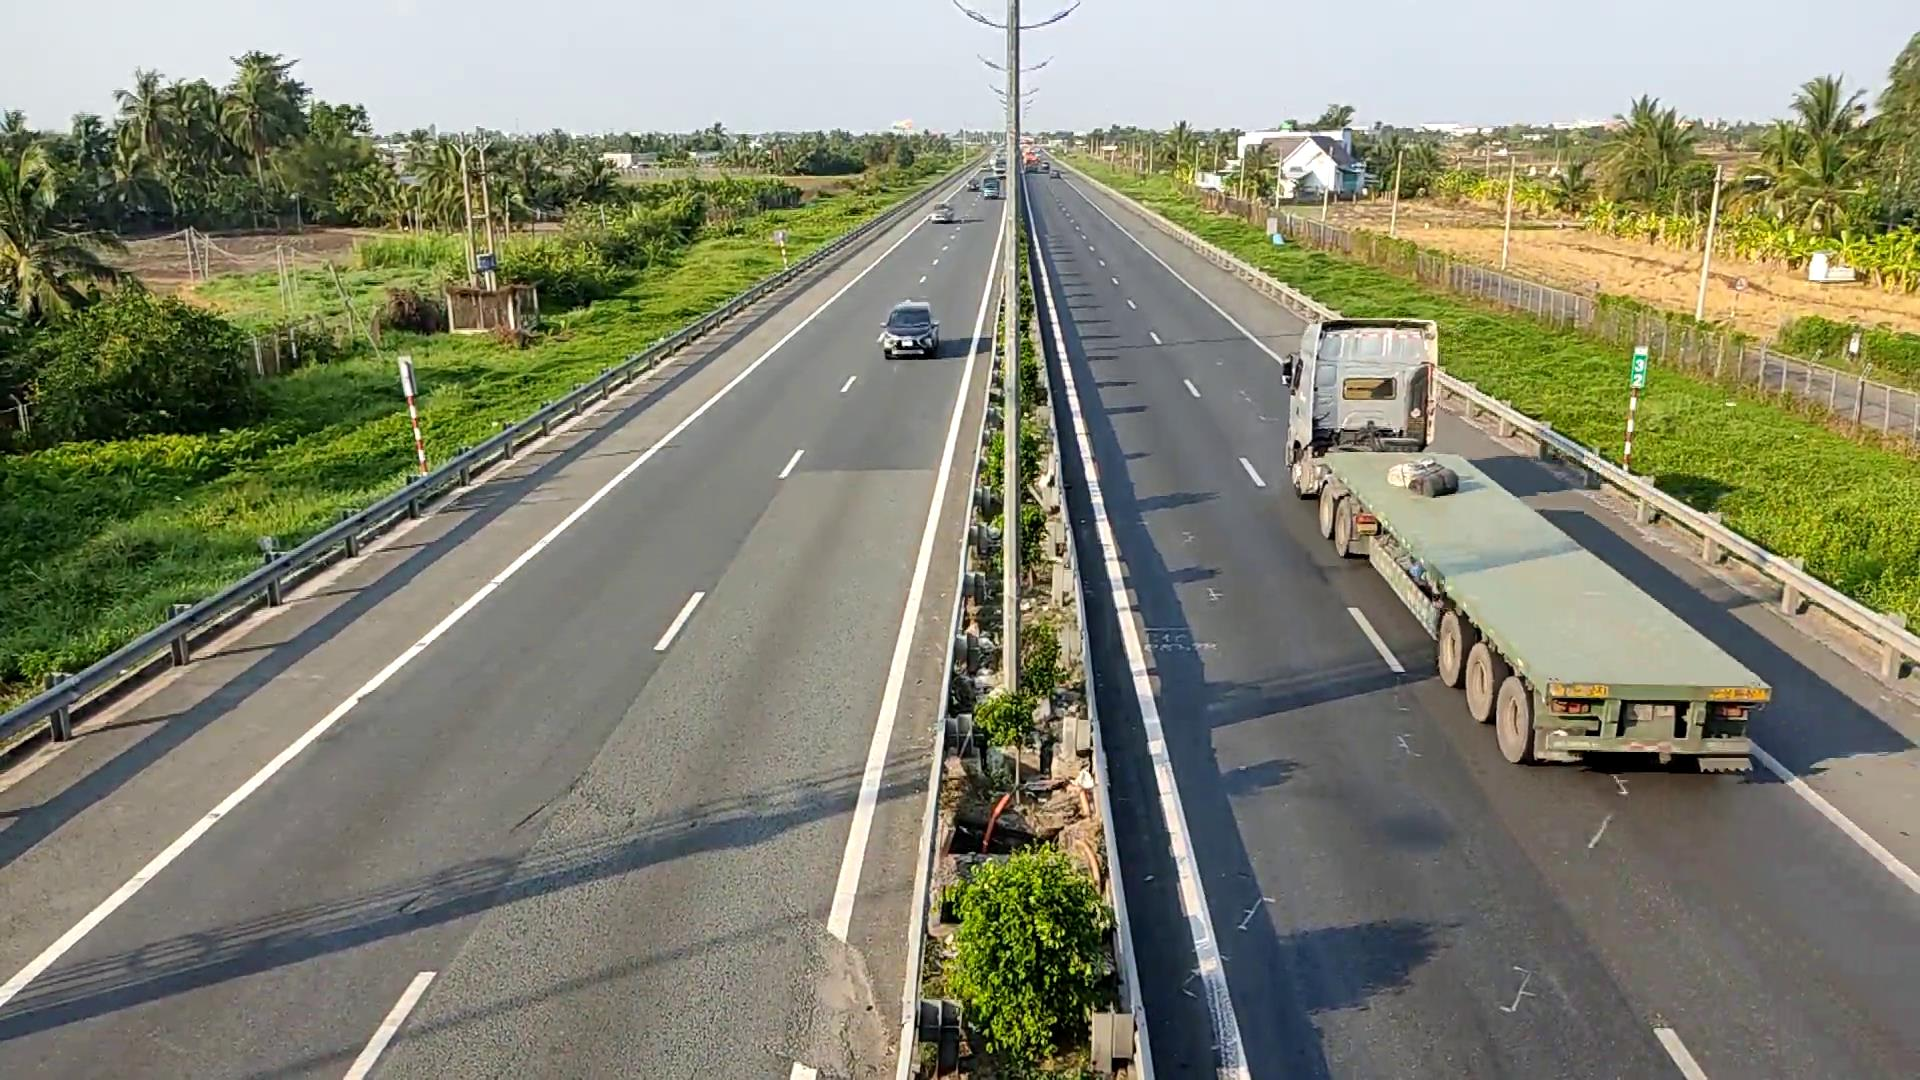car: (880, 298, 940, 356)
container: (1269, 306, 1760, 783)
